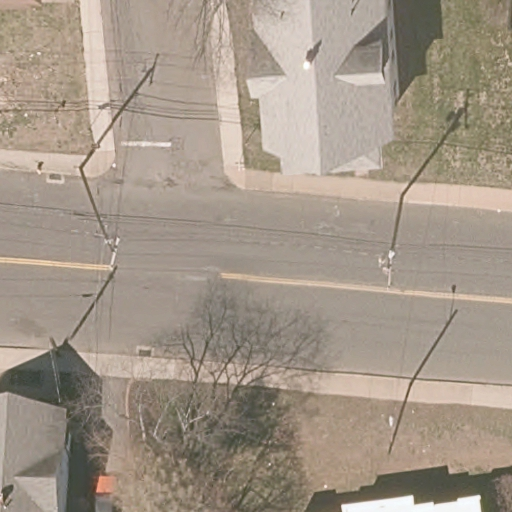DT: (76, 167, 121, 269), (378, 195, 406, 287), (389, 382, 411, 453)
